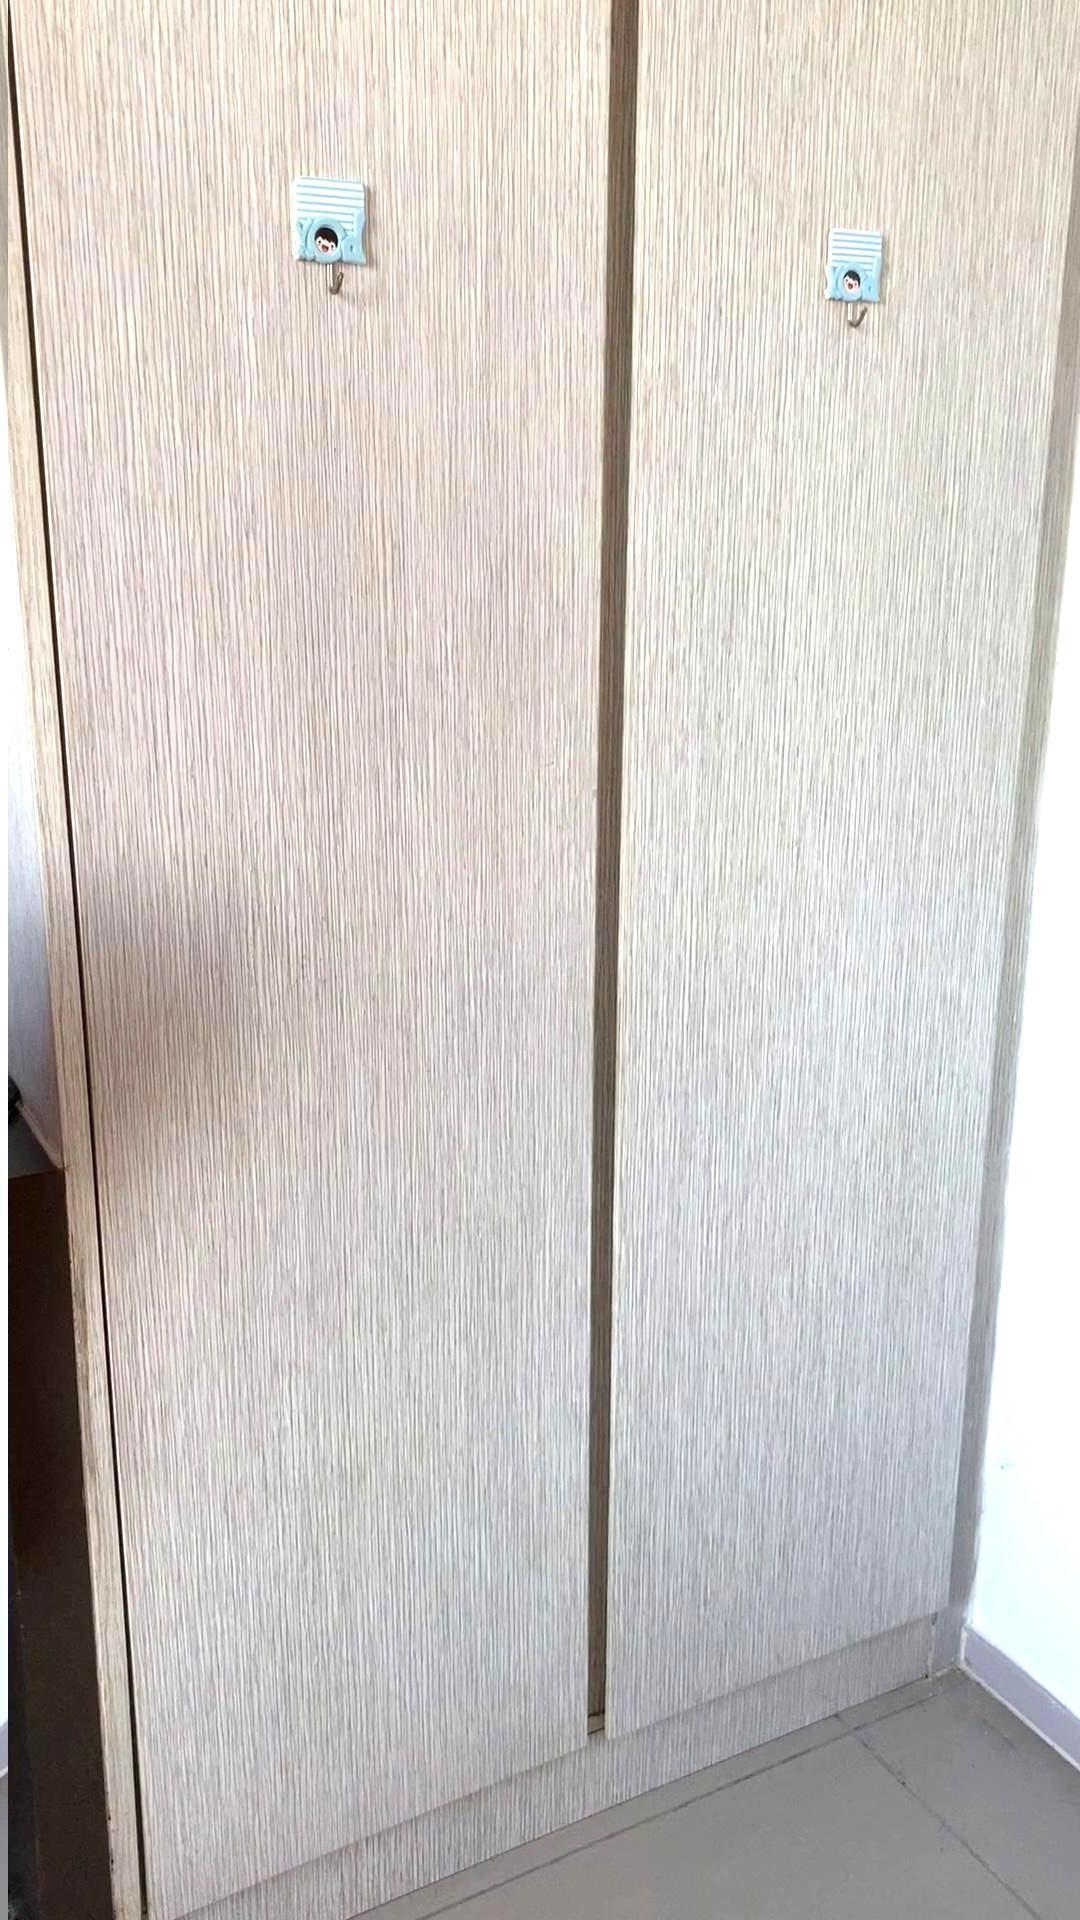Armario: (29, 1, 1072, 1887)
